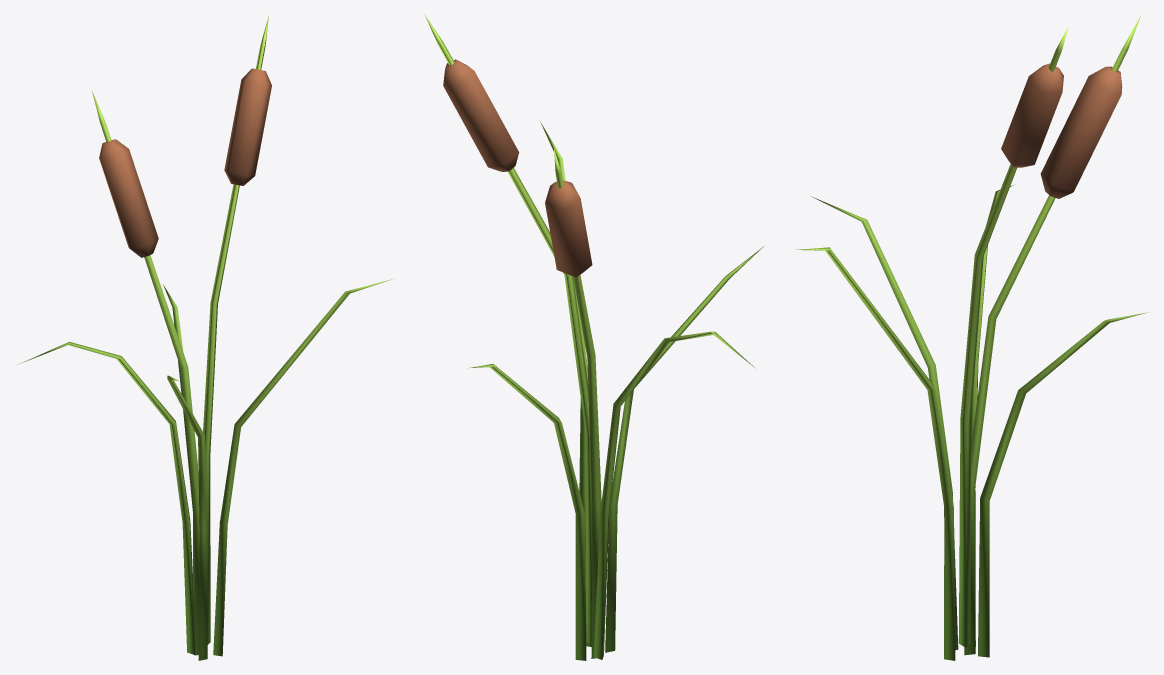
The model's file is reed multiple.fbx.
3 views of the same model, side by side, from view 1: azimuth 30°, elevation 25°; view 2: azimuth 150°, elevation 25°; view 3: azimuth 270°, elevation 25° (orthographic). The views are drawn at different scales.
Parts seen in each view (by area): view 1: reed_multiple; view 2: reed_multiple; view 3: reed_multiple.
Boxes of the visible parts, x1,y1,x2,y2 form: reed_multiple: [17, 15, 392, 660]; reed_multiple: [425, 15, 763, 660]; reed_multiple: [796, 16, 1146, 660].
Size of the model in its own units: 0.719 by 1.38 by 0.6431.
